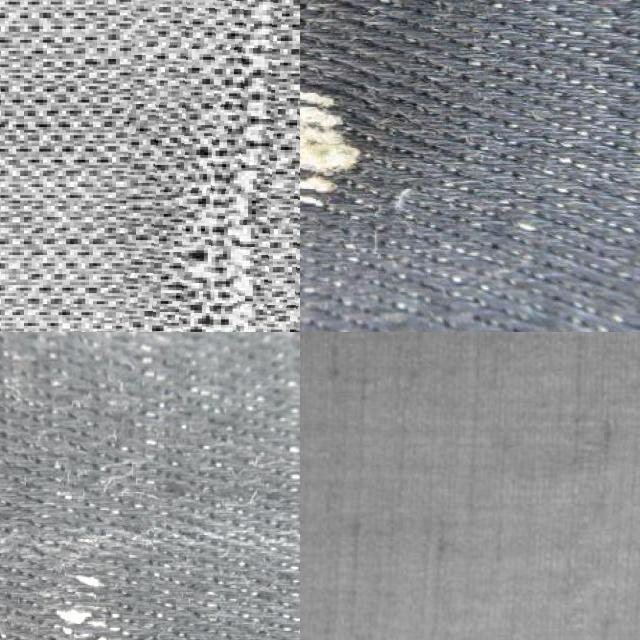Thread_other: (123, 0, 300, 332), (6, 517, 153, 640), (300, 59, 394, 251)
